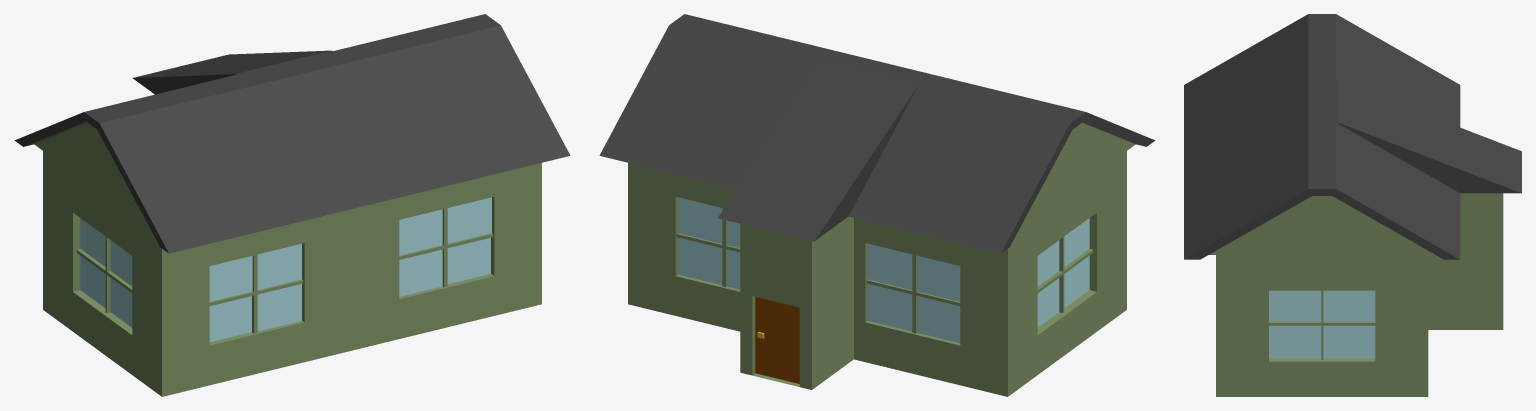
File: THouse2.gltf
3 views of the same model, side by side, from view 1: azimuth 30°, elevation 25°; view 2: azimuth 150°, elevation 25°; view 3: azimuth 270°, elevation 25° (orthographic). The views are drawn at different scales.
Parts seen in each view (by area): view 1: T-Shape.001; view 2: T-Shape.001; view 3: T-Shape.001.
Part boxes in pixels (x1,y1,x2,y2): T-Shape.001: [14, 14, 570, 396]; T-Shape.001: [599, 14, 1155, 396]; T-Shape.001: [1184, 14, 1521, 396].
Size of the model in its own units: 18.5 by 10.5 by 15.1.
